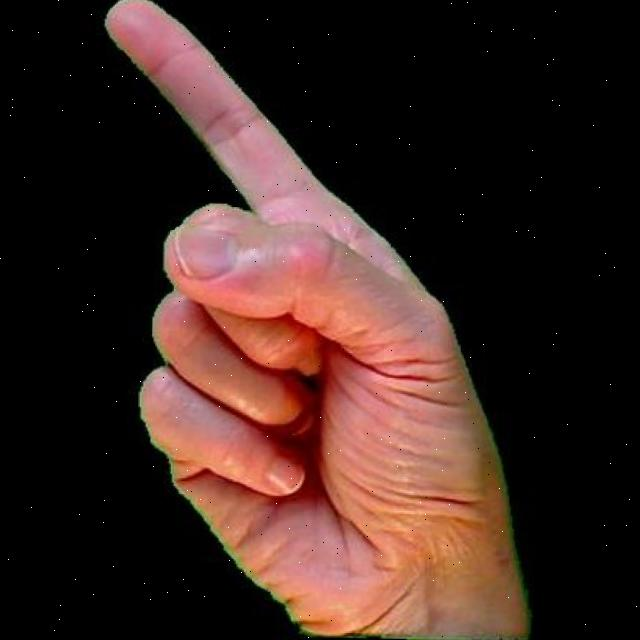z: (68, 0, 542, 640)
